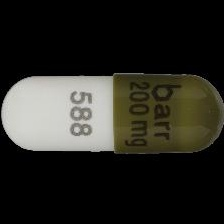0555-0588: (0, 0, 224, 224)
